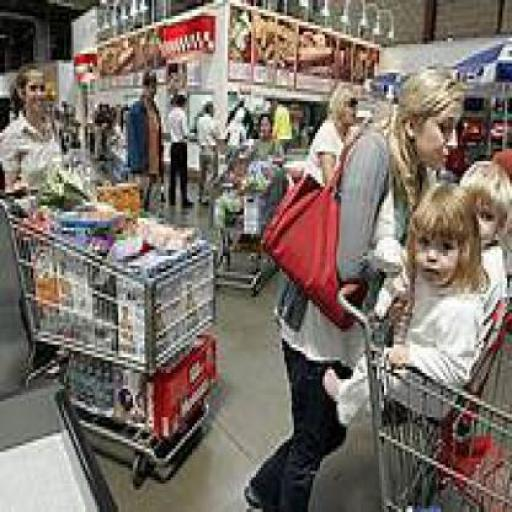shopping_cart: (0, 198, 221, 490), (337, 281, 512, 512), (212, 163, 287, 299)
